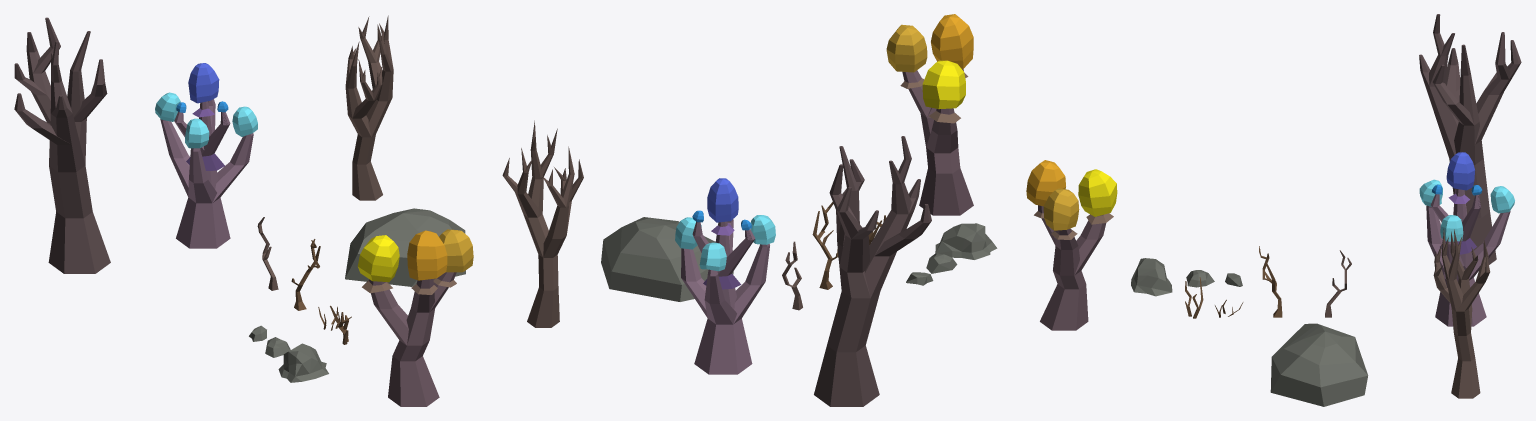
Rendered from mapa_dodatki.gltf.
3 views of the same model, side by side, from view 1: azimuth 30°, elevation 25°; view 2: azimuth 150°, elevation 25°; view 3: azimuth 270°, elevation 25° (orthographic). The views are drawn at different scales.
Parts seen in each view (by area): view 1: tree1, alien_mushroom_tree2, alien_mushroom_tree1, tree2, skala2, kamen3, veja2, veja1; view 2: tree1, alien_mushroom_tree1, alien_mushroom_tree2, tree2, skala2, kamen3, veja2, veja1, kamen2; view 3: alien_mushroom_tree2, tree1, alien_mushroom_tree1, skala2, tree2, kamen3.
Part boxes in pixels (x1,y1,x2,y2): tree1: (14, 17, 110, 273); alien_mushroom_tree2: (357, 229, 473, 406); alien_mushroom_tree1: (155, 63, 257, 248); tree2: (345, 15, 393, 200); skala2: (345, 208, 465, 286); kamen3: (278, 343, 328, 382); veja2: (291, 239, 320, 310); veja1: (257, 217, 278, 290); tree1: (814, 136, 931, 406); alien_mushroom_tree1: (675, 178, 775, 374); alien_mushroom_tree2: (886, 14, 973, 215); tree2: (502, 120, 583, 327); skala2: (601, 217, 733, 301); kamen3: (935, 223, 997, 259); veja2: (812, 202, 838, 289); veja1: (782, 241, 802, 310); kamen2: (926, 253, 957, 273); alien_mushroom_tree2: (1026, 160, 1117, 330); tree1: (1419, 14, 1521, 264); alien_mushroom_tree1: (1419, 152, 1514, 326); skala2: (1270, 323, 1368, 406); tree2: (1433, 229, 1490, 398); kamen3: (1131, 258, 1172, 296).
Size of the model in its own units: 29.19 by 18.08 by 34.52.
Materials: 15 (1 with a texture image).
